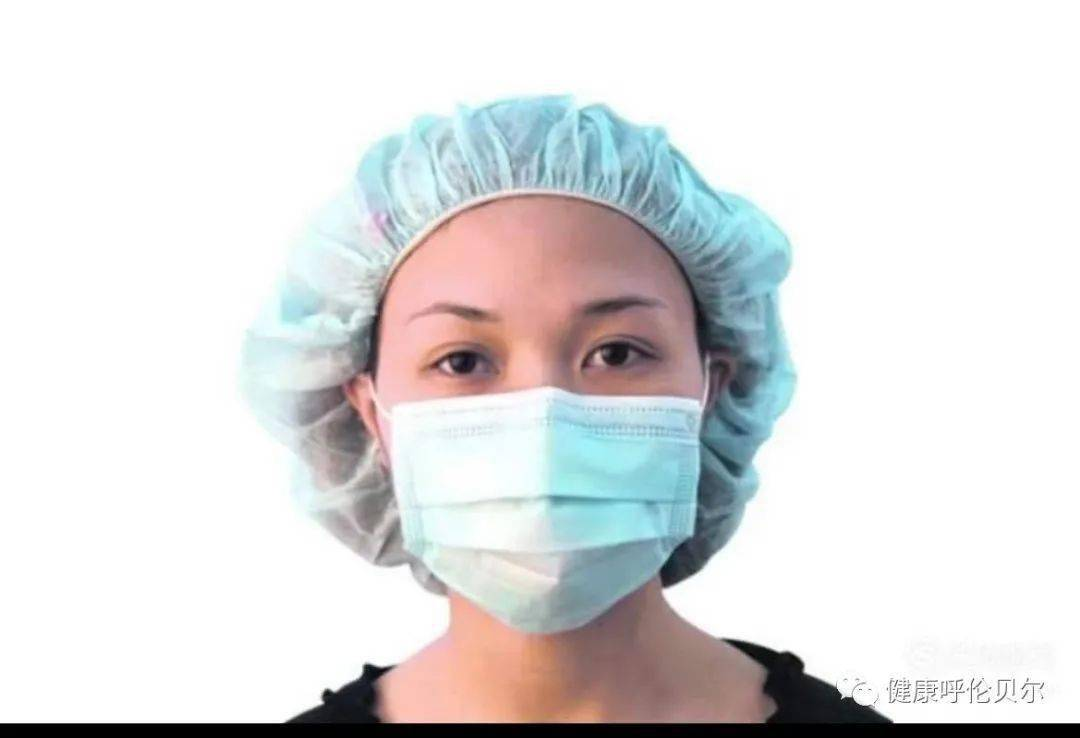mask: (365, 211, 734, 626)
